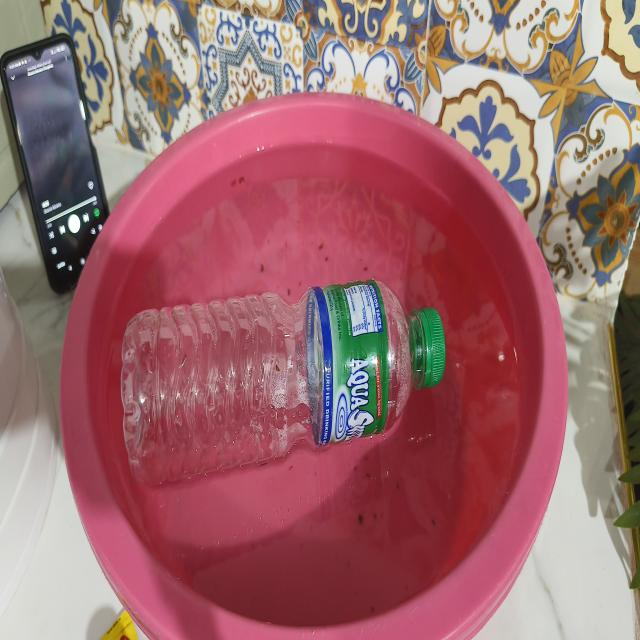Plastic Bottle: (122, 281, 445, 469)
